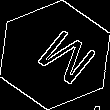M_SW: (19, 21, 91, 89)
